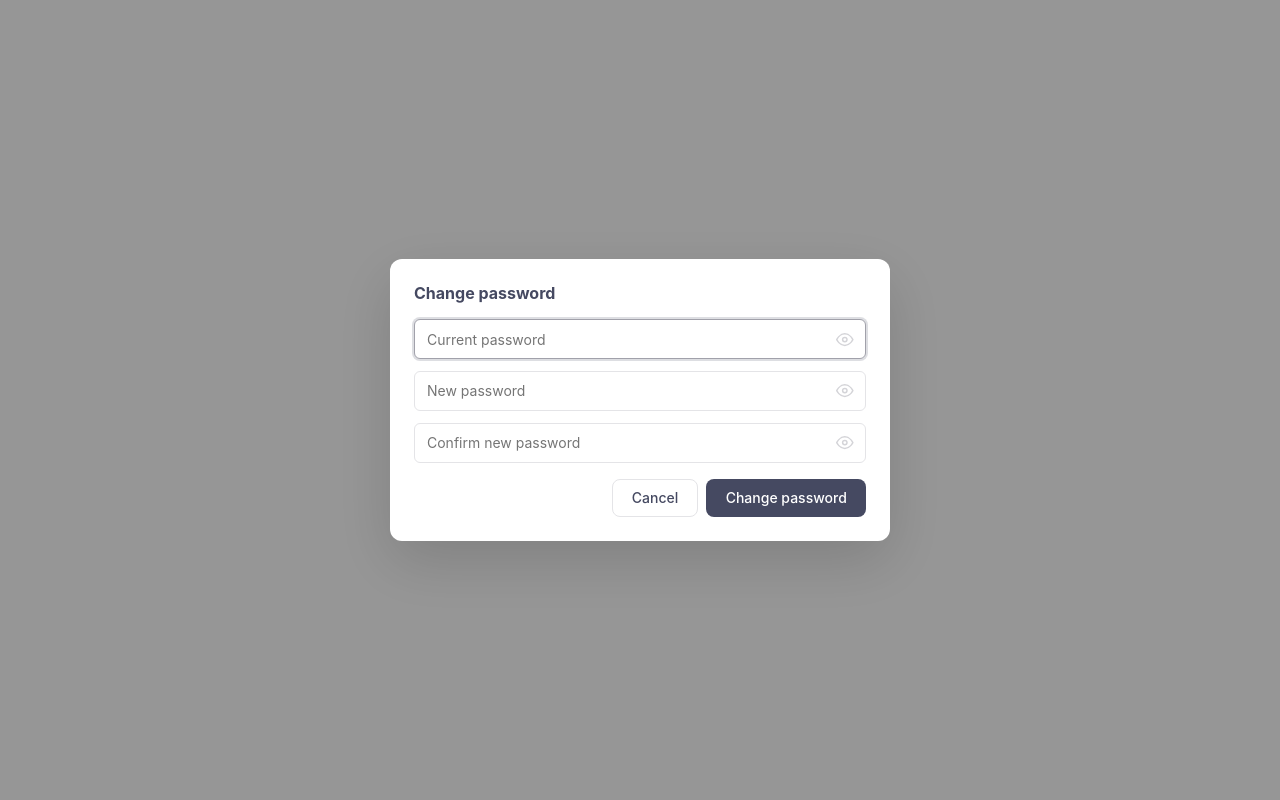
ChangePasswordModal › falls back to a generic error when the API has no detail
The width and height of the screenshot is (1280, 800).
In the password field with placeholder "Current password": (640, 339) [414, 319, 866, 359], type "wrong"
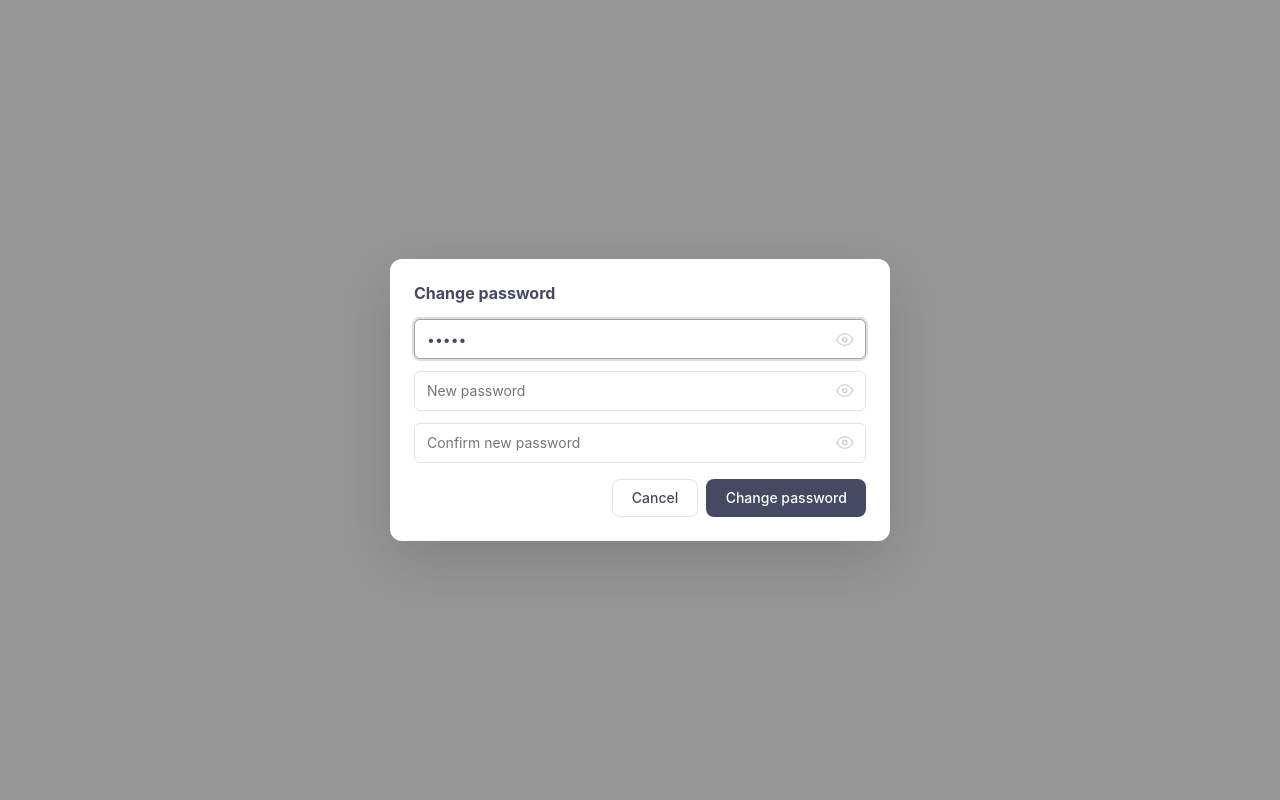
In the password field with placeholder "New password": (640, 391) [414, 371, 866, 411], type "newpass"
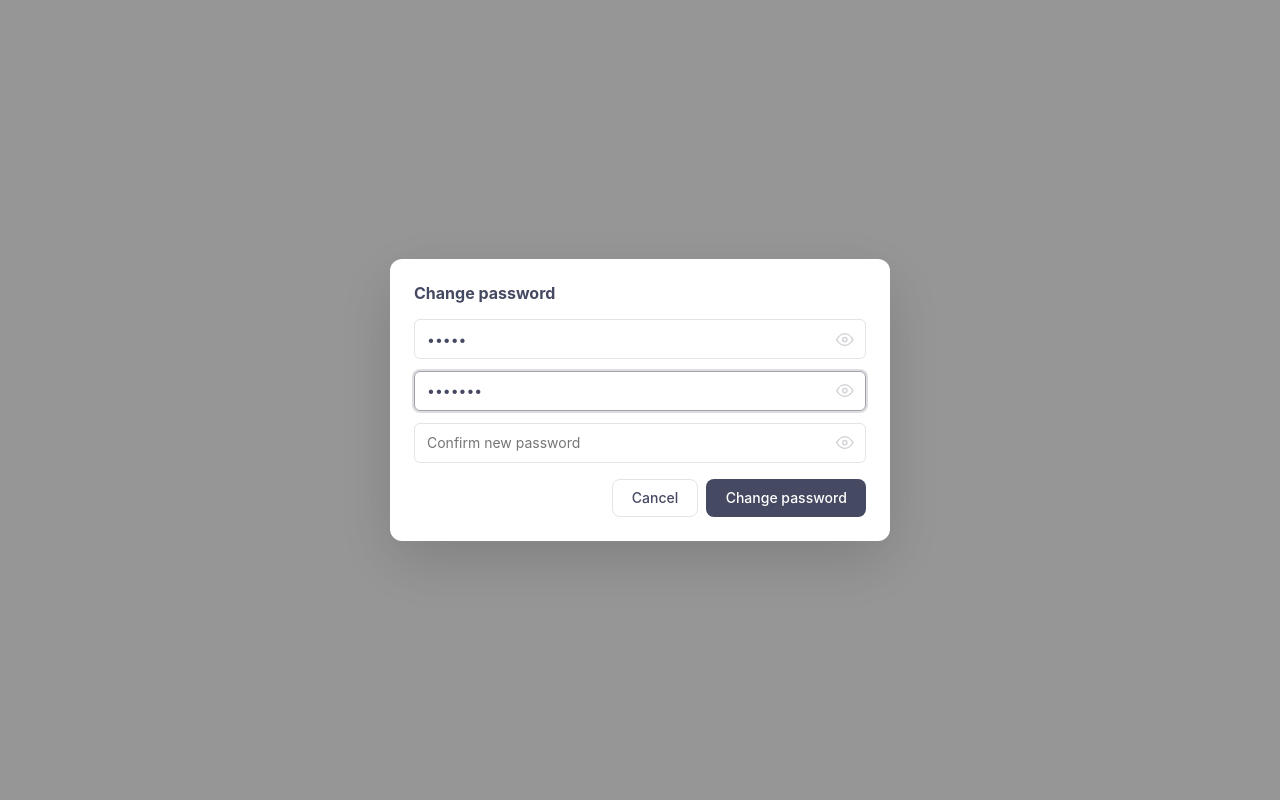
In the password field with placeholder "Confirm new password": (640, 443) [414, 423, 866, 463], type "newpass"
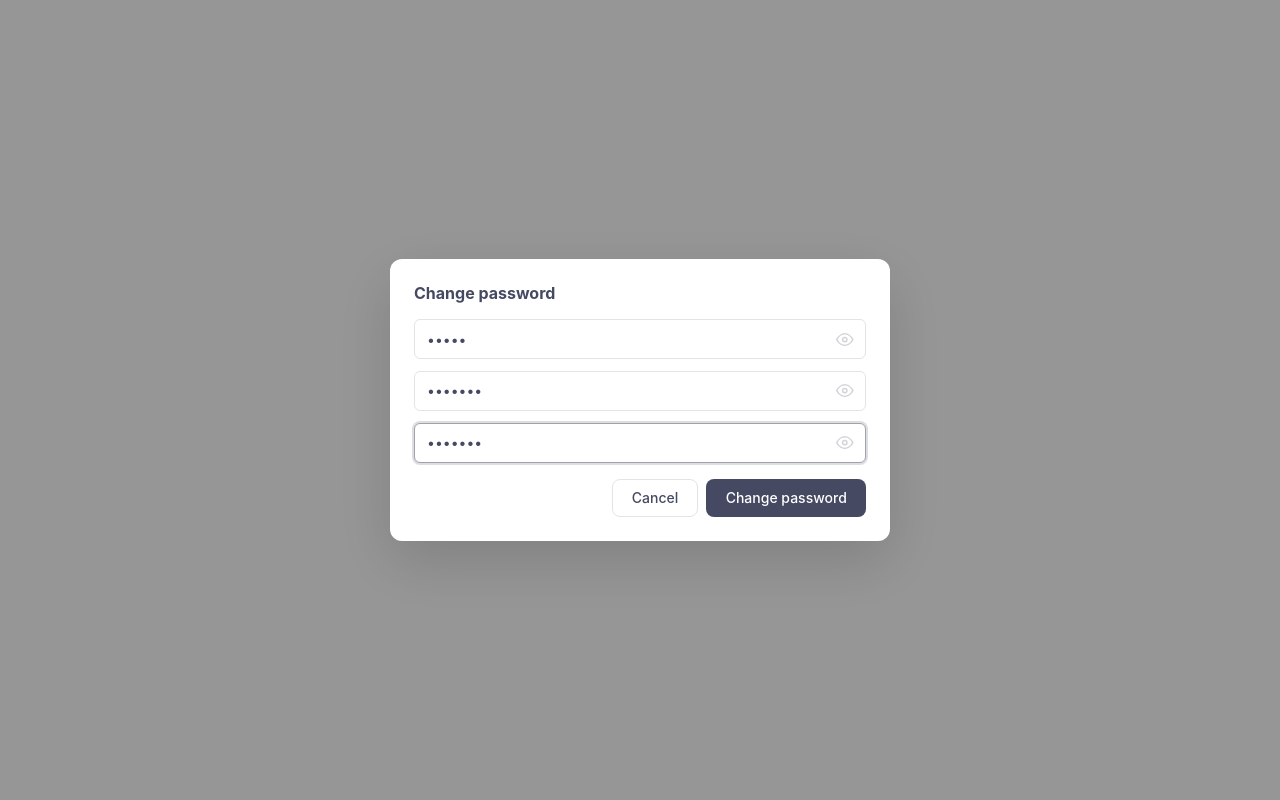
Click the button "Change password": (786, 498) [706, 479, 866, 517]
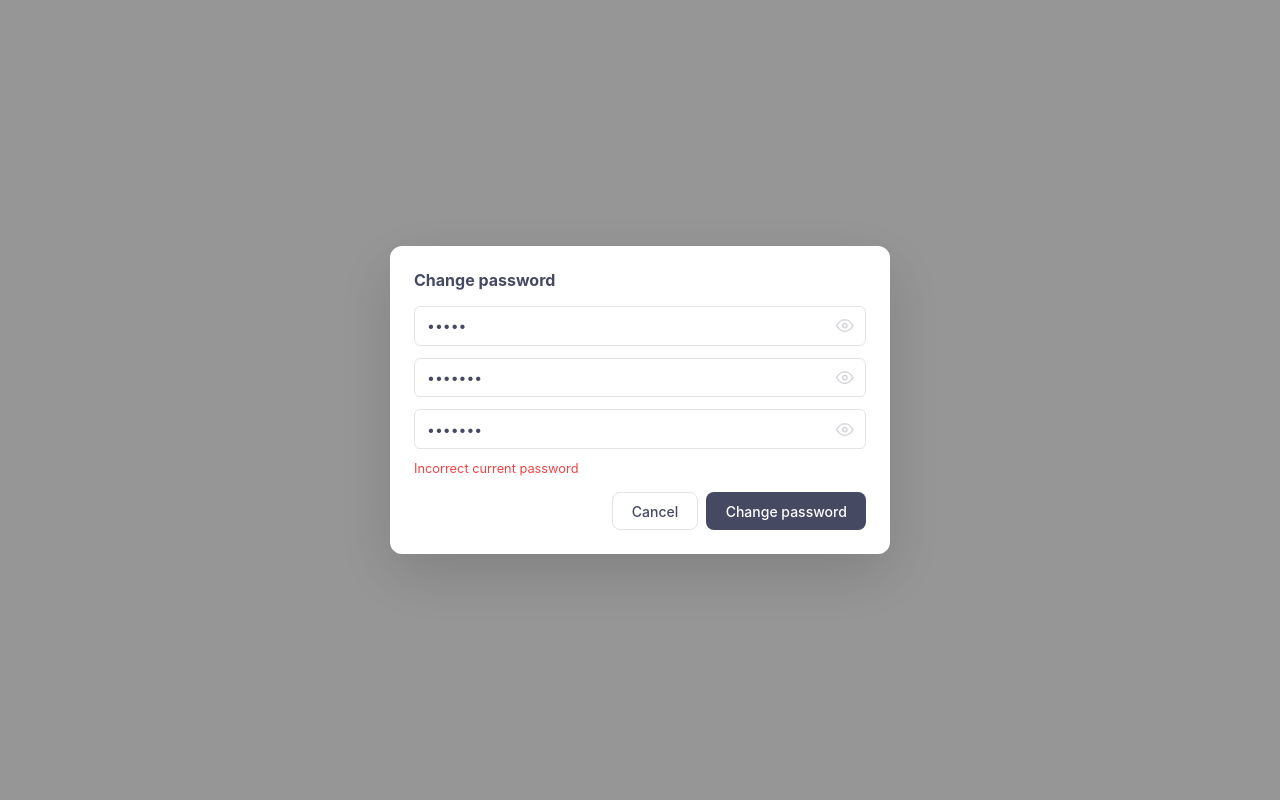
Now the text "Incorrect current password" is shown, box [414, 461, 578, 476]
